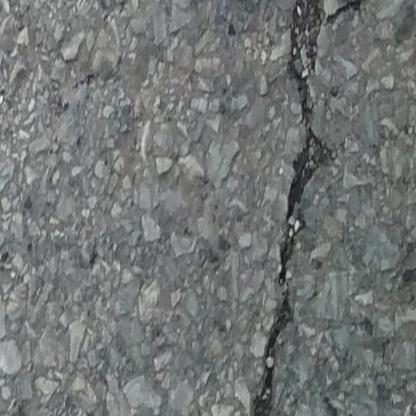Cracks: (249, 0, 389, 416)
